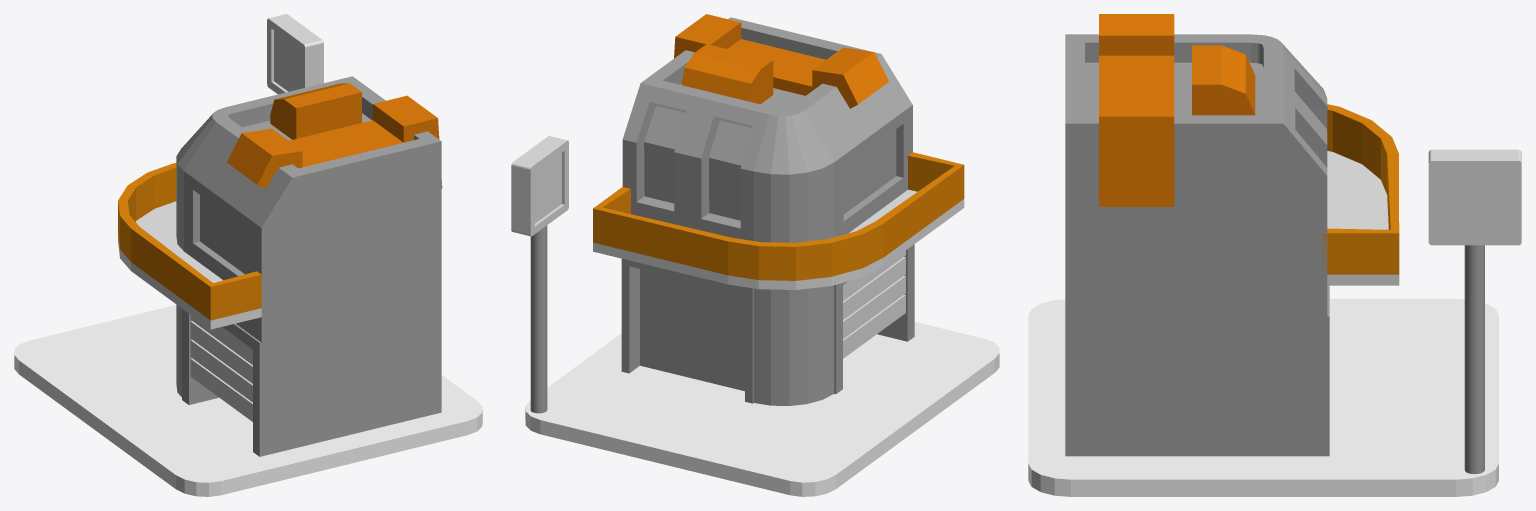
3 views of the same model, side by side, from view 1: azimuth 30°, elevation 25°; view 2: azimuth 150°, elevation 25°; view 3: azimuth 270°, elevation 25° (orthographic). The views are drawn at different scales.
Parts seen in each view (by area): view 1: Cube.001, Cube, Cube.007, Cube.003, Cube.004, Cube.006, Cube.002; view 2: Cube.001, Cube, Cube.003, Cube.007, Cube.006, Cube.004, Cube.002; view 3: Cube.001, Cube, Cube.007, Cube.006, Cube.003, Cube.002.
Part boxes in pixels (left/top/right/bottom): Cube.001: left=176, top=76, right=441, bottom=456; Cube: left=14, top=305, right=482, bottom=496; Cube.007: left=227, top=83, right=442, bottom=188; Cube.003: left=118, top=163, right=261, bottom=320; Cube.004: left=190, top=315, right=252, bottom=421; Cube.006: left=267, top=14, right=323, bottom=94; Cube.002: left=118, top=201, right=261, bottom=329; Cube.001: left=530, top=17, right=914, bottom=413; Cube: left=525, top=322, right=999, bottom=496; Cube.003: left=593, top=152, right=964, bottom=280; Cube.007: left=674, top=14, right=888, bottom=108; Cube.006: left=511, top=136, right=568, bottom=236; Cube.004: left=843, top=250, right=905, bottom=358; Cube.002: left=593, top=189, right=964, bottom=289; Cube.001: left=1065, top=34, right=1484, bottom=474; Cube: left=1028, top=298, right=1498, bottom=496; Cube.007: left=1099, top=14, right=1255, bottom=206; Cube.006: left=1428, top=149, right=1521, bottom=245; Cube.003: left=1321, top=104, right=1399, bottom=274; Cube.002: left=1327, top=151, right=1399, bottom=285.
Bounding box in the file's own units: 1.02 × 0.9778 × 1.17.
